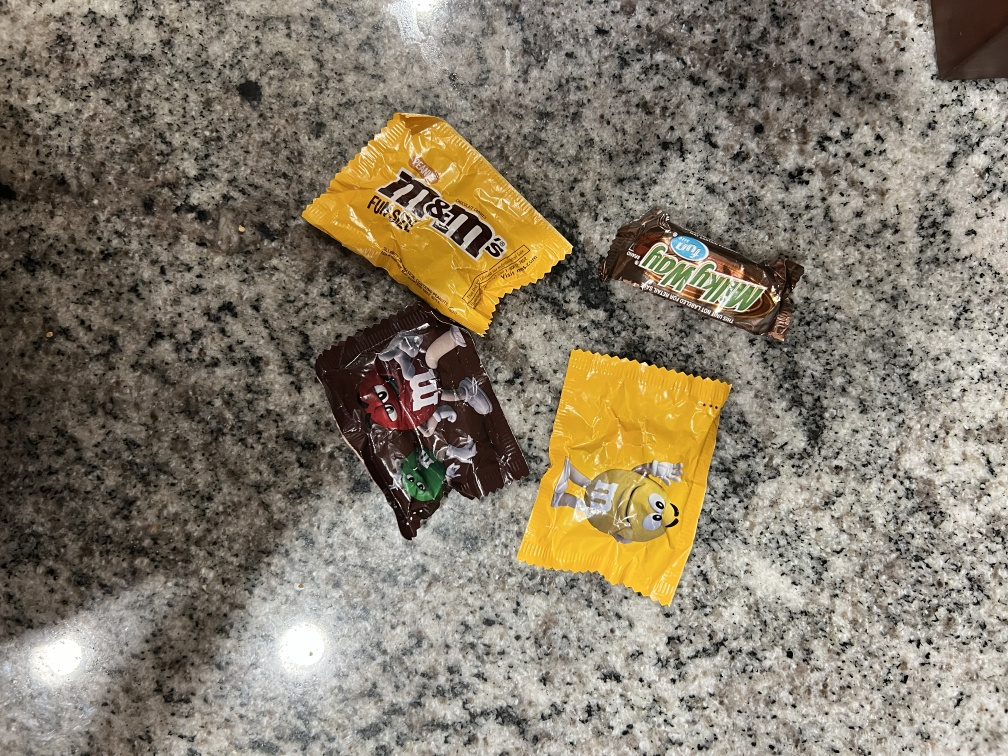MMs_peanut: (254, 309, 539, 535)
MMs_regular: (278, 84, 580, 332), (528, 345, 717, 618)
milky_way: (596, 184, 845, 344)
